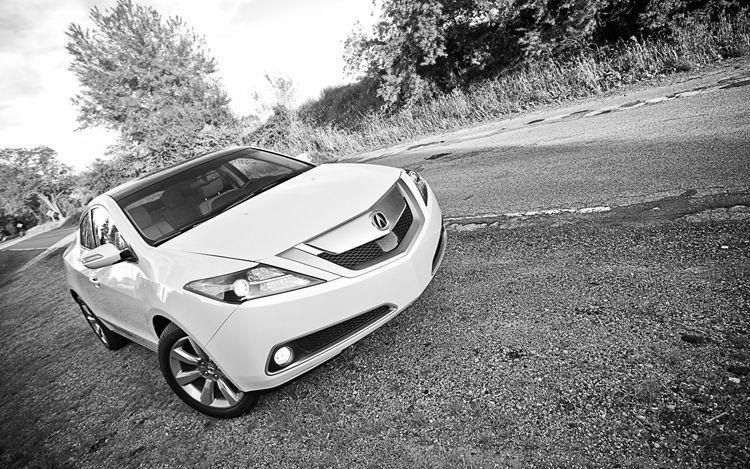car: (62, 145, 450, 422)
